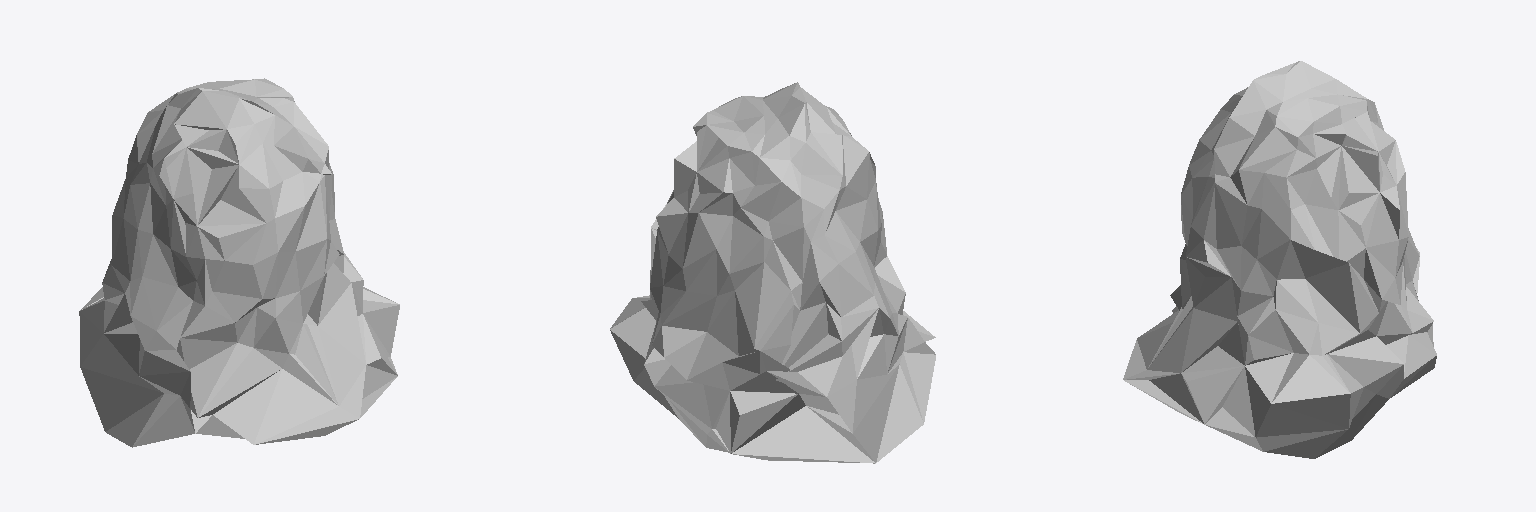
The model's file is copper.obj.
3 renders of one model, left to right at view 1: azimuth 30°, elevation 25°; view 2: azimuth 150°, elevation 25°; view 3: azimuth 270°, elevation 25°, orthographic.
Parts seen in each view (by area): view 1: Low_Poly_Rock_Low_Poly_Rock_Mesh.001; view 2: Low_Poly_Rock_Low_Poly_Rock_Mesh.001; view 3: Low_Poly_Rock_Low_Poly_Rock_Mesh.001.
Part boxes in pixels (x1,y1,x2,y2): Low_Poly_Rock_Low_Poly_Rock_Mesh.001: (79,78,399,447); Low_Poly_Rock_Low_Poly_Rock_Mesh.001: (610,82,935,463); Low_Poly_Rock_Low_Poly_Rock_Mesh.001: (1123,61,1436,458).
Size of the model in its own units: 4.8 by 5.64 by 4.66.